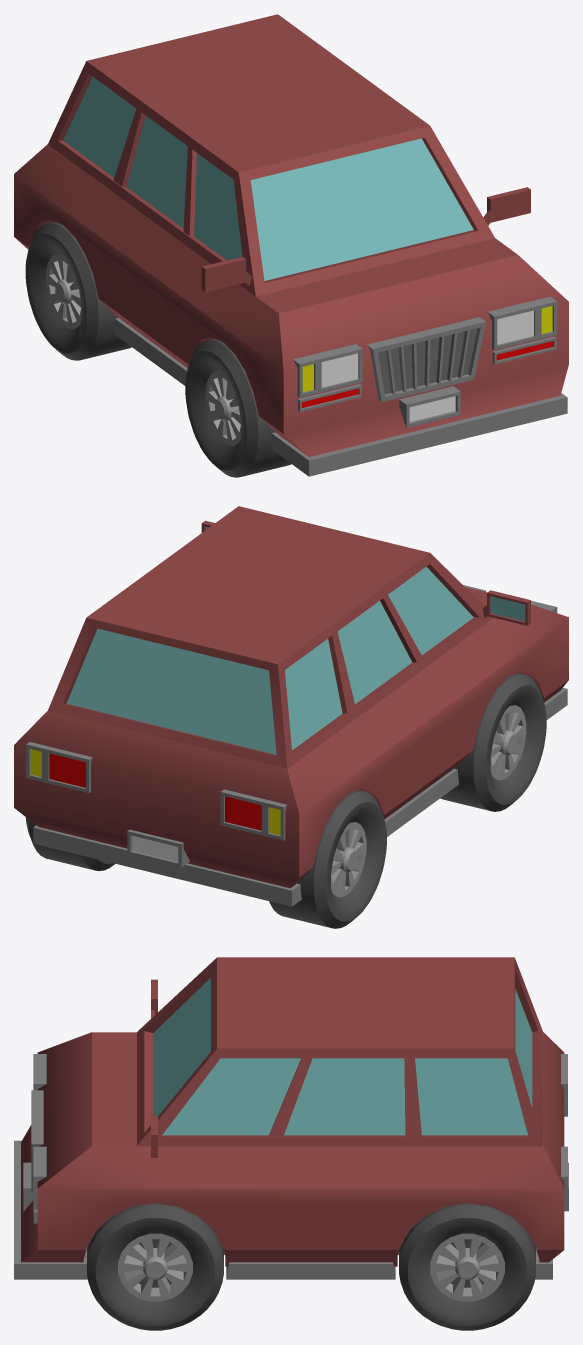
Rendered from Carritofurgoneta.fbx.
The picture shows the model from 3 angles, top to bottom: view 1: azimuth 30°, elevation 25°; view 2: azimuth 150°, elevation 25°; view 3: azimuth 270°, elevation 25°; orthographic projection. The views are drawn at different scales.
Parts seen in each view (by area): view 1: polySurface1, pCylinder2, polySurface2, pCube2, pCube1, pCube5, pCube3, pCube4; view 2: polySurface1, pCylinder2, polySurface2, pCube1, pCube4, pCube5; view 3: polySurface1, pCylinder2, polySurface2, pCube1, pCube2, pCube5, pCube4.
Boxes of the visible parts, bbox=[...] form: polySurface1: bbox=[14, 14, 568, 456]; pCylinder2: bbox=[25, 221, 291, 477]; polySurface2: bbox=[113, 318, 567, 476]; pCube2: bbox=[367, 317, 485, 401]; pCube1: bbox=[293, 296, 557, 397]; pCube5: bbox=[201, 187, 530, 292]; pCube3: bbox=[298, 336, 556, 411]; pCube4: bbox=[399, 386, 460, 427]; polySurface1: bbox=[14, 506, 568, 888]; pCylinder2: bbox=[25, 673, 546, 928]; polySurface2: bbox=[33, 688, 567, 906]; pCube1: bbox=[26, 600, 557, 840]; pCube4: bbox=[127, 829, 189, 867]; pCube5: bbox=[201, 520, 530, 625]; polySurface1: bbox=[21, 957, 564, 1266]; pCylinder2: bbox=[87, 1203, 535, 1330]; polySurface2: bbox=[14, 1140, 552, 1279]; pCube1: bbox=[33, 1054, 567, 1209]; pCube2: bbox=[31, 1090, 43, 1192]; pCube5: bbox=[151, 979, 157, 1157]; pCube4: bbox=[23, 1162, 568, 1211].
Bounding box in the file's own units: 3.07 × 2.39 × 4.63.
